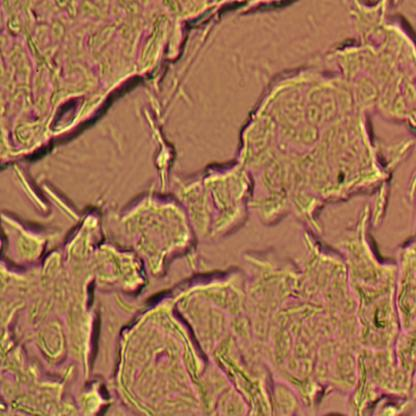Stage I: (263, 74, 416, 416), (0, 222, 214, 416), (0, 0, 186, 146)
